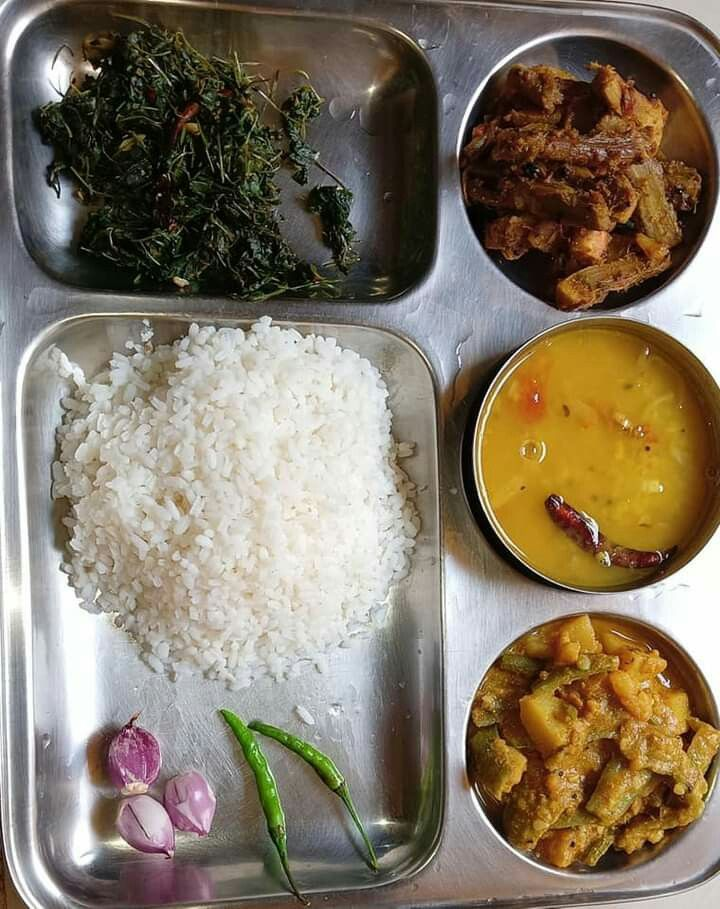bhat: (59, 326, 410, 682)
dal: (475, 327, 707, 578)
sabji: (36, 37, 365, 288), (473, 624, 704, 855)
